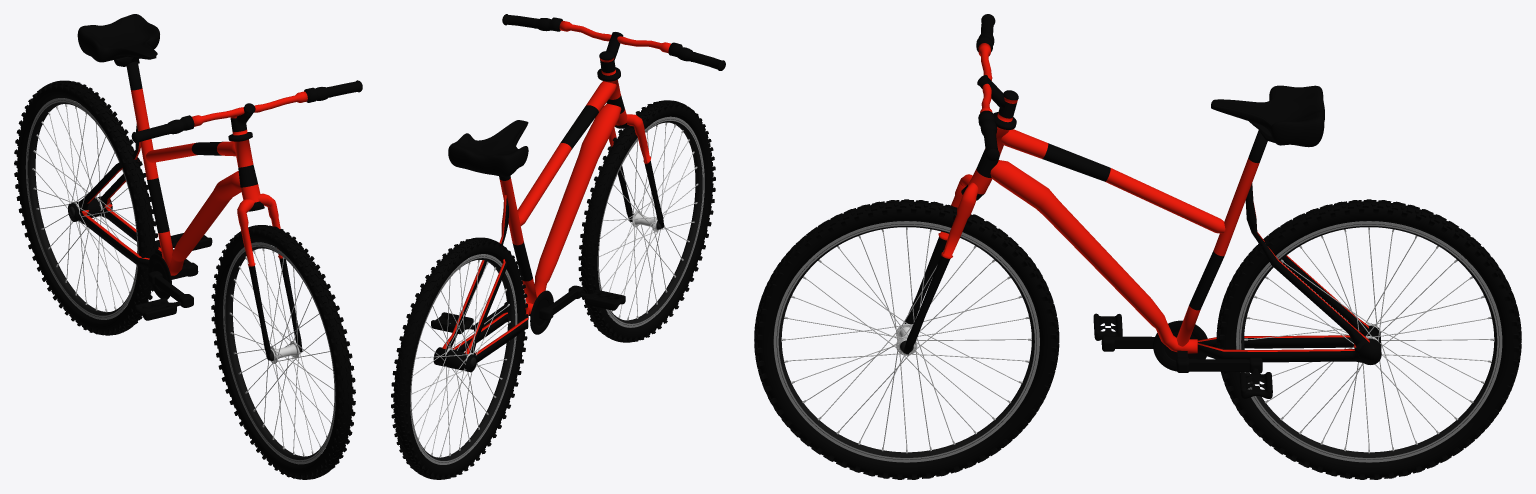
The model's file is bicycle.glb.
3 views of the same model, side by side, from view 1: azimuth 30°, elevation 25°; view 2: azimuth 150°, elevation 25°; view 3: azimuth 270°, elevation 25° (orthographic). The views are drawn at different scales.
Parts seen in each view (by area): view 1: Bicycle1; view 2: Bicycle1; view 3: Bicycle1.
Boxes of the visible parts, box(x1,y1,x2,y2) form: Bicycle1: box(14, 14, 362, 479); Bicycle1: box(391, 14, 725, 479); Bicycle1: box(754, 14, 1521, 479).
Bounding box in the file's own units: 1.6 × 2.28 × 3.93.
